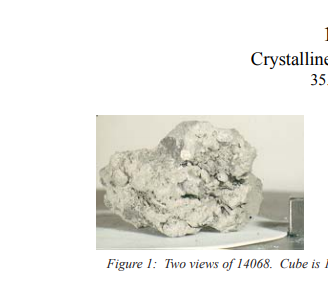Breccia: (82, 116, 250, 224)
